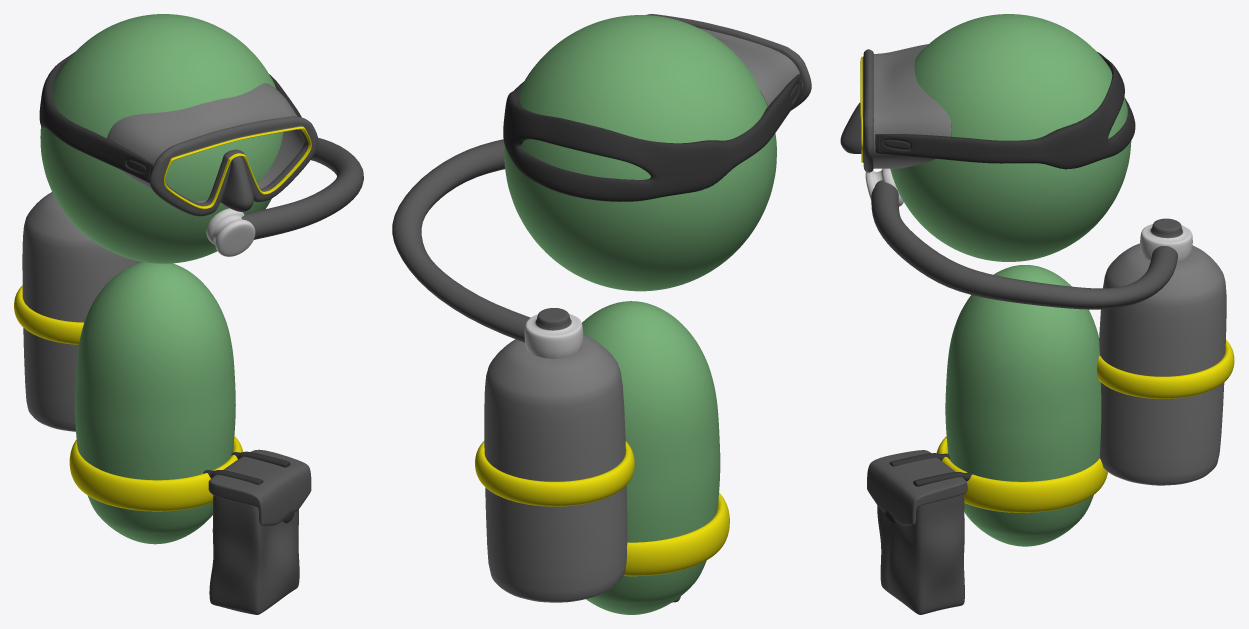
File: avatar.fbx
The picture shows the model from 3 angles, left to right: view 1: azimuth 30°, elevation 25°; view 2: azimuth 150°, elevation 25°; view 3: azimuth 270°, elevation 25°; orthographic projection. The views are drawn at different scales.
Parts seen in each view (by area): view 1: scubaPlayer; view 2: scubaPlayer; view 3: scubaPlayer.
Boxes of the visible parts, x1=… form: scubaPlayer: x1=14, y1=14, x2=363, y2=614; scubaPlayer: x1=392, y1=14, x2=811, y2=614; scubaPlayer: x1=840, y1=14, x2=1234, y2=614.
Bounding box in the file's own units: 37.21 × 66.6 × 43.02.
